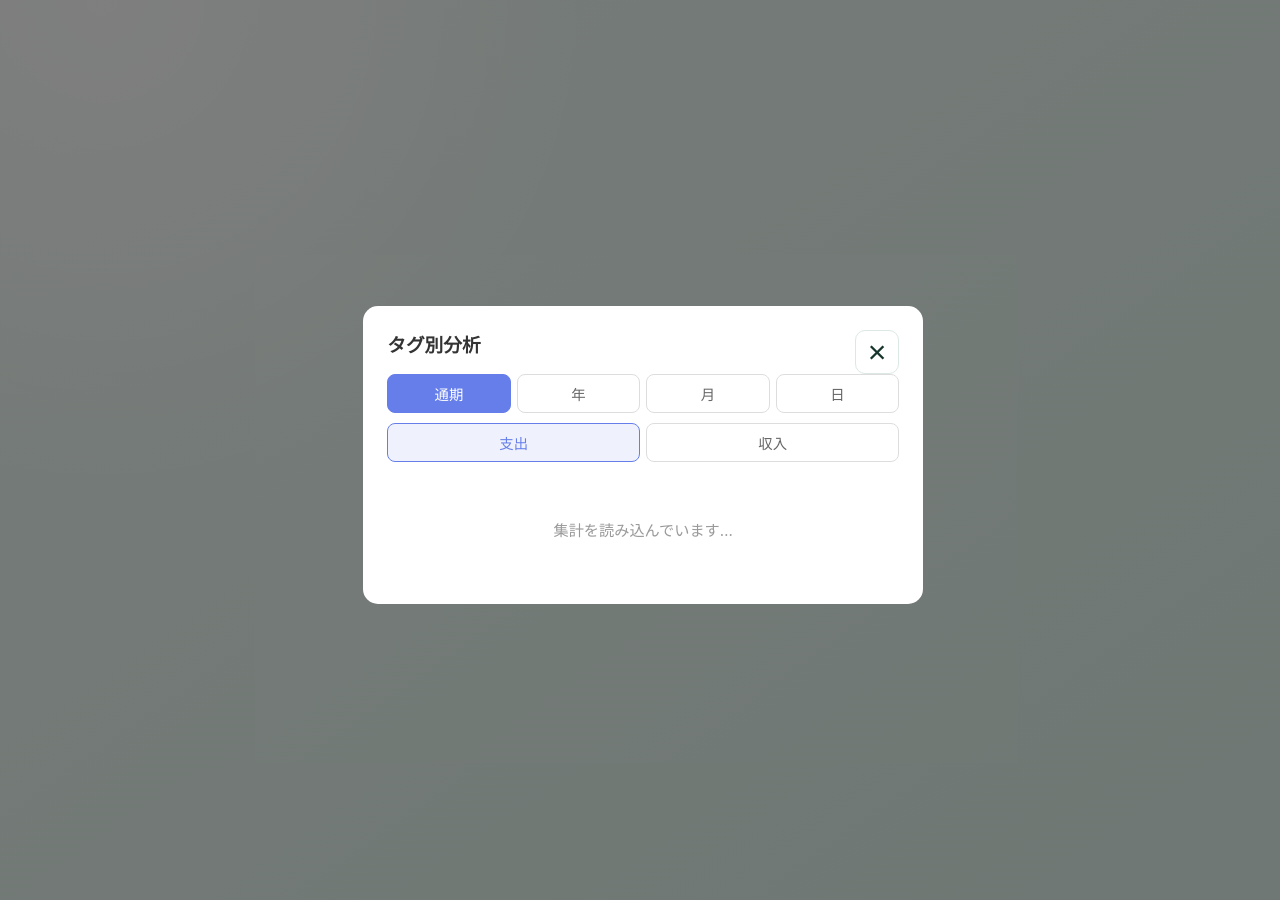
it: does not replace the selected period with an older summary
Click the button with class "tab-btn" showing "収入". click: click(773, 442)
box: x1=646 y1=422 x2=899 y2=462
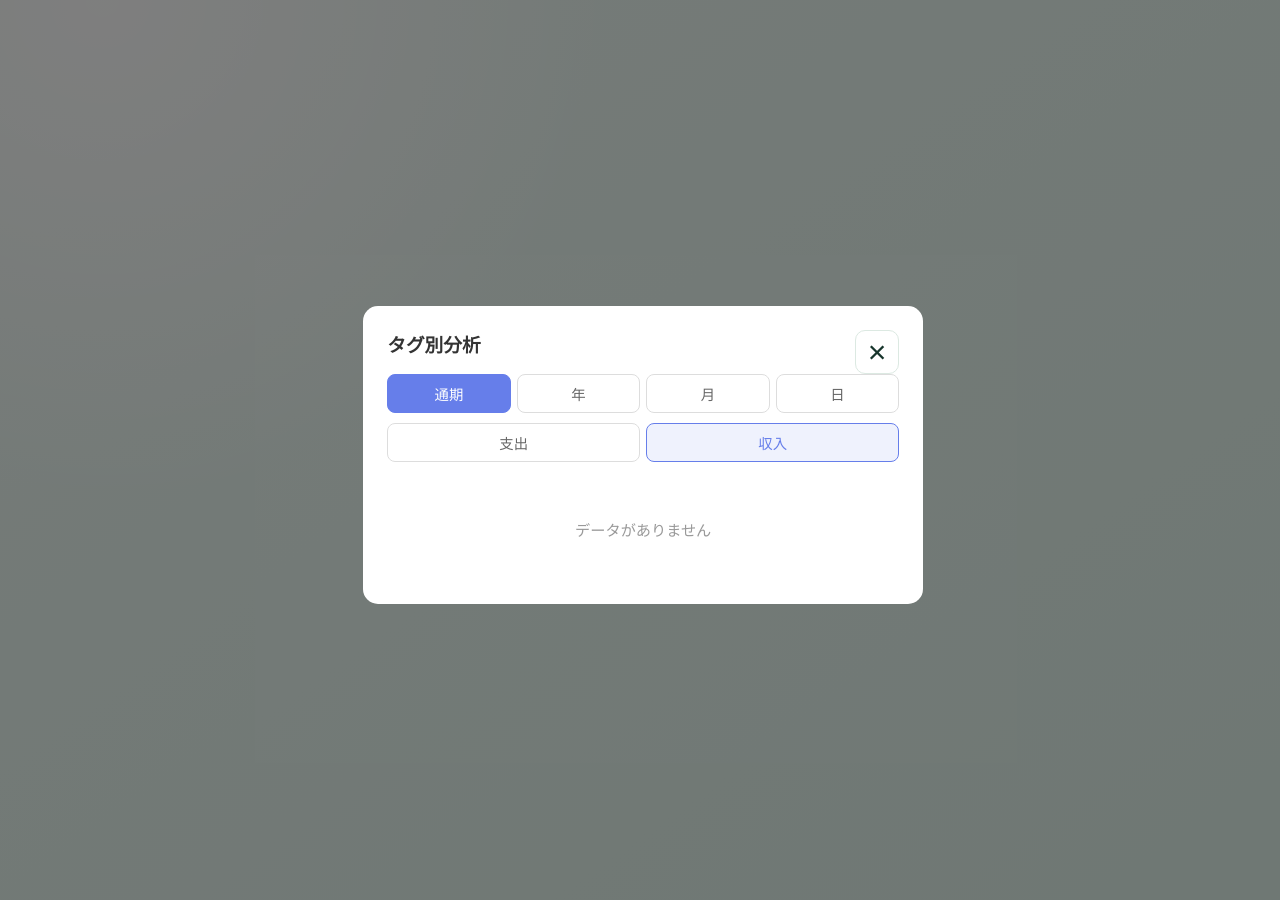
Now the text "データがありません" is shown, box x1=575 y1=520 x2=711 y2=540
